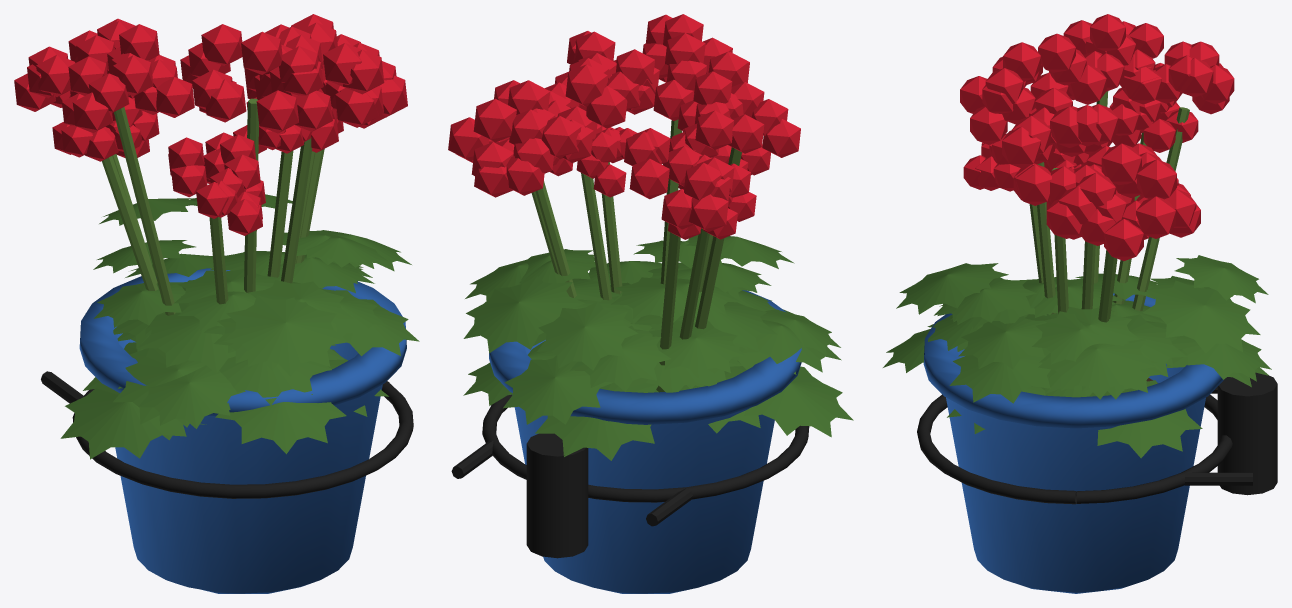
File: maceta_geranios_pared.glb
The picture shows the model from 3 angles, left to right: view 1: azimuth 30°, elevation 25°; view 2: azimuth 150°, elevation 25°; view 3: azimuth 270°, elevation 25°; orthographic projection. The views are drawn at different scales.
Parts seen in each view (by area): view 1: hojas, flores, maceta, tallo_0, aro; view 2: hojas, flores, maceta, aro, tallo_0; view 3: flores, maceta, hojas, aro, tallo_0.
Boxes of the visible parts, x1,y1,x2,y2 form: hojas: [60, 194, 419, 459]; flores: [14, 14, 407, 235]; maceta: [79, 268, 406, 593]; tallo_0: [102, 98, 324, 315]; aro: [41, 371, 413, 498]; hojas: [463, 235, 853, 460]; flores: [448, 14, 800, 239]; maceta: [489, 290, 801, 593]; aro: [451, 394, 809, 558]; tallo_0: [531, 119, 741, 392]; flores: [960, 14, 1234, 260]; maceta: [923, 293, 1223, 593]; hojas: [883, 255, 1271, 458]; aro: [917, 372, 1277, 504]; tallo_0: [1029, 91, 1189, 322].
Size of the model in its own units: 0.2841 by 0.4131 by 0.2903.
